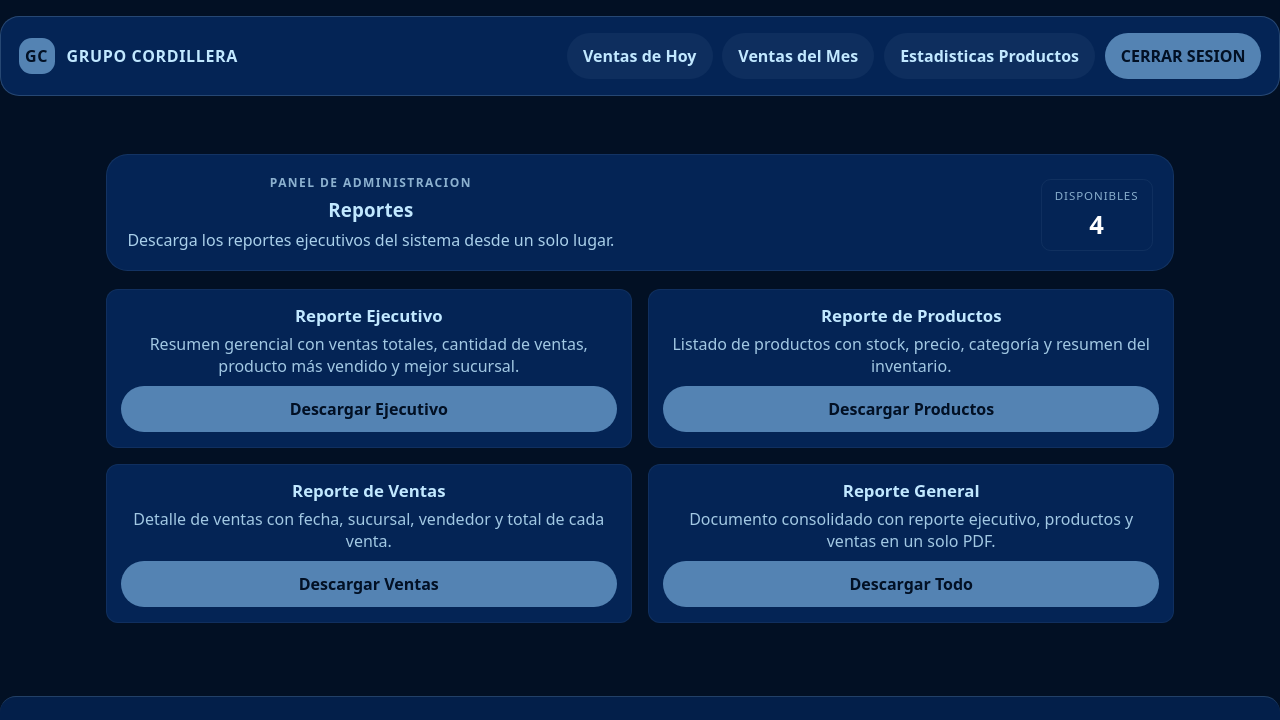
Test: ReportesPage › muestra mensaje por defecto si no existe error
Click the button "Descargar Ejecutivo": (369, 409) [121,386,617,432]
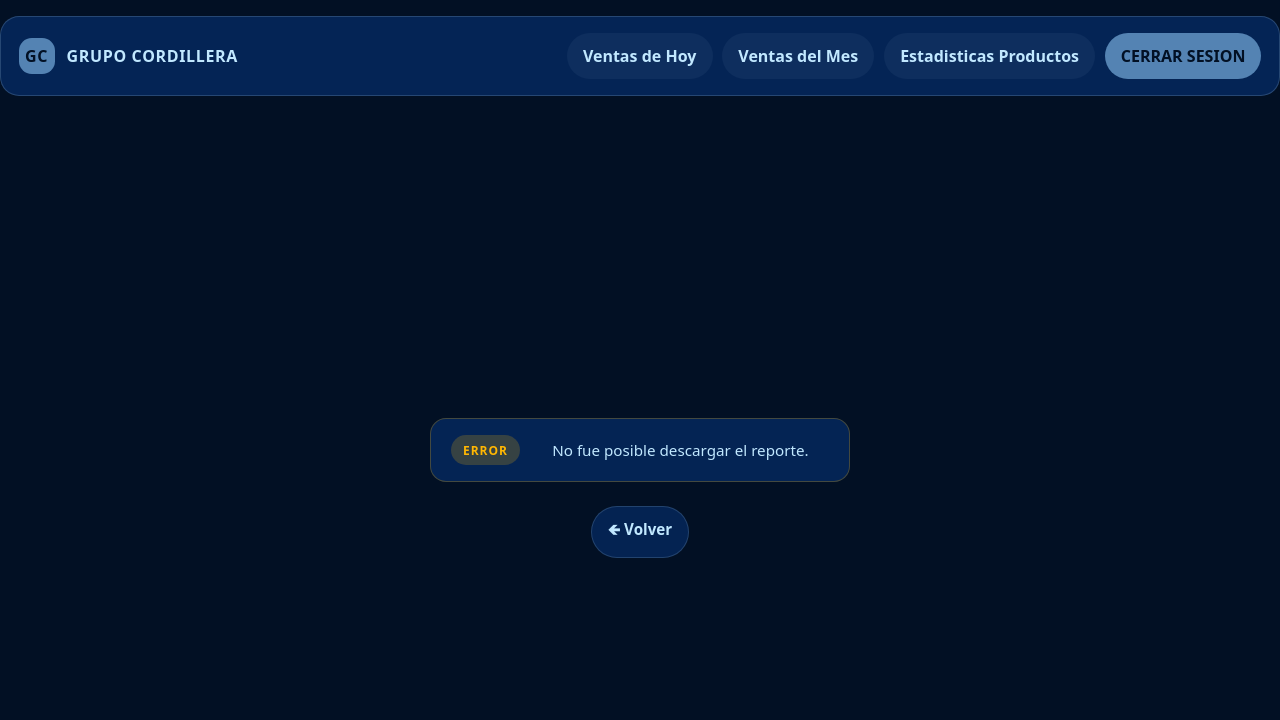
Now the text "No fue posible descargar el reporte." is shown, box [532,440,829,460]
